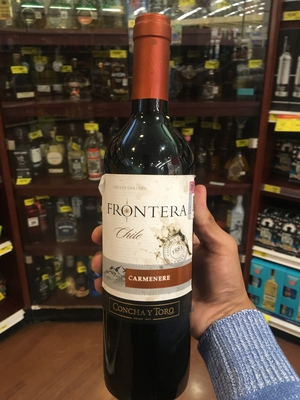frontera carmenere: (90, 13, 215, 400)
